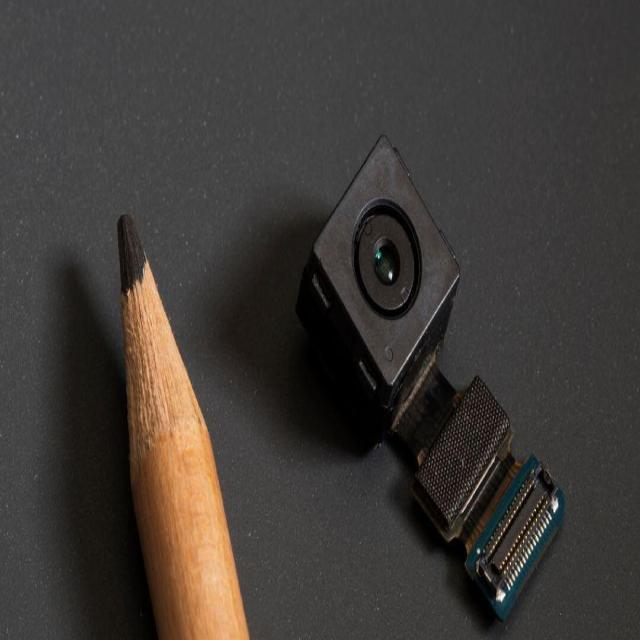hidden camera: (343, 187, 428, 338)
